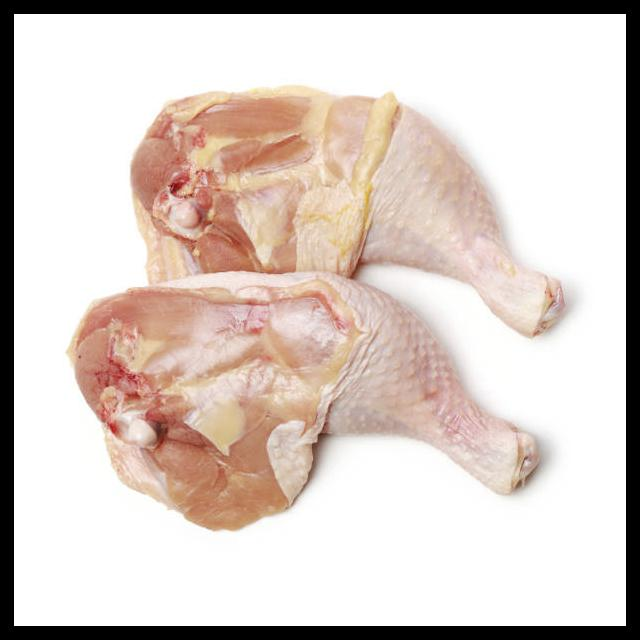chicken: (66, 270, 539, 533), (128, 85, 569, 339)
